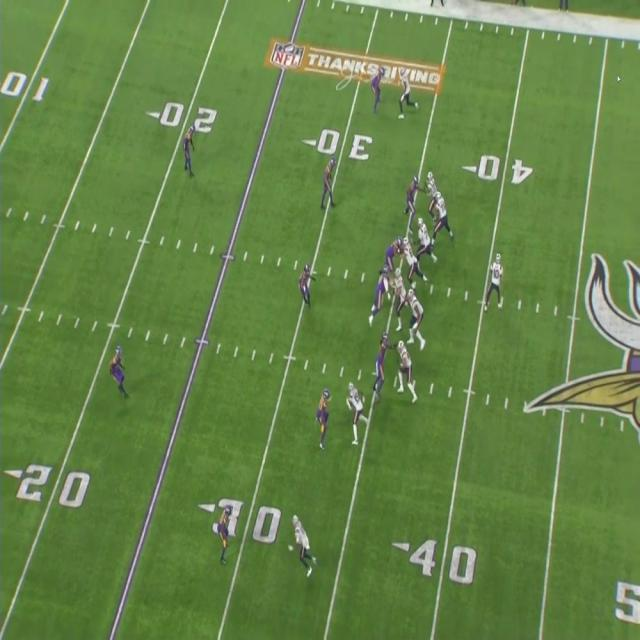center: (403, 240, 423, 285)
db: (218, 513, 233, 564), (111, 342, 125, 393), (320, 388, 332, 446), (182, 124, 196, 172), (372, 70, 388, 110)
lb: (324, 160, 337, 208), (304, 265, 314, 306)
qb: (490, 254, 505, 306)
skill: (294, 513, 314, 573), (397, 340, 415, 397), (347, 381, 363, 445), (422, 168, 441, 220), (398, 67, 412, 117)
